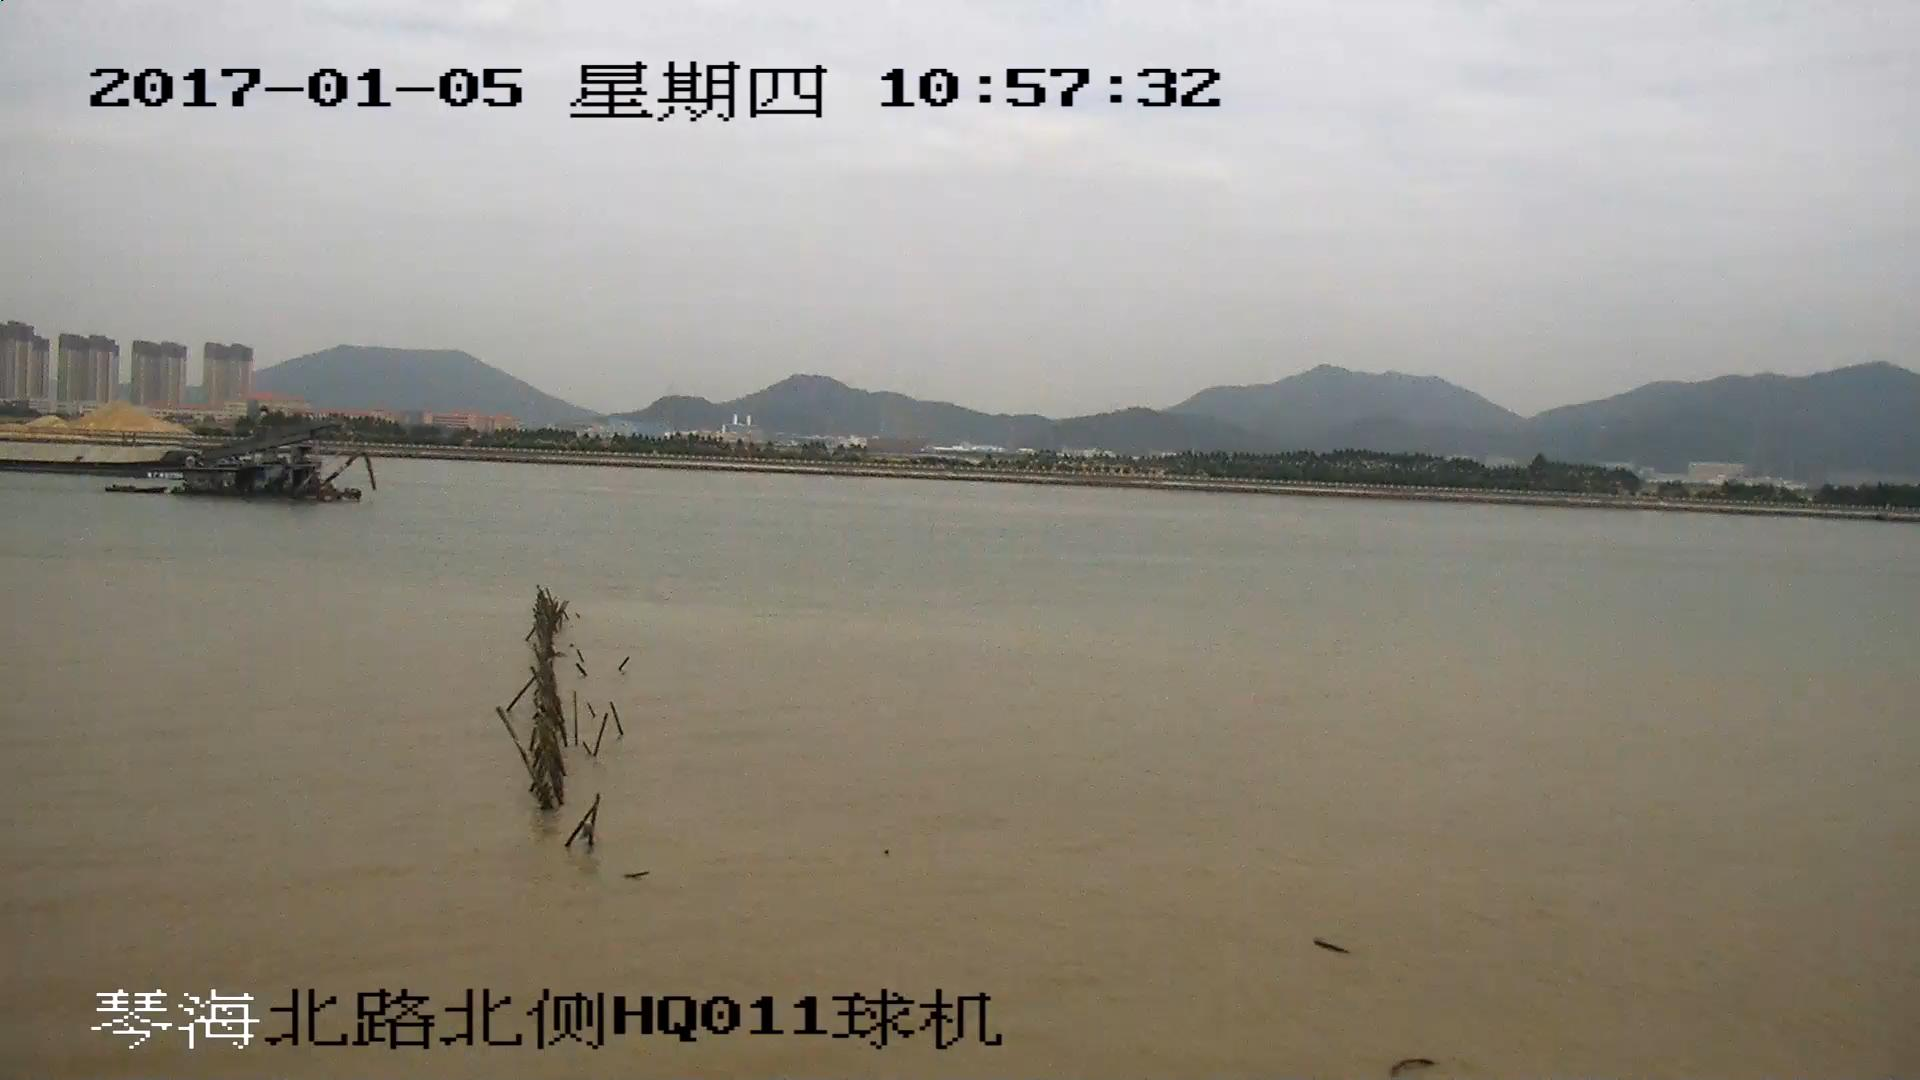ore carrier: (1, 408, 356, 489)
